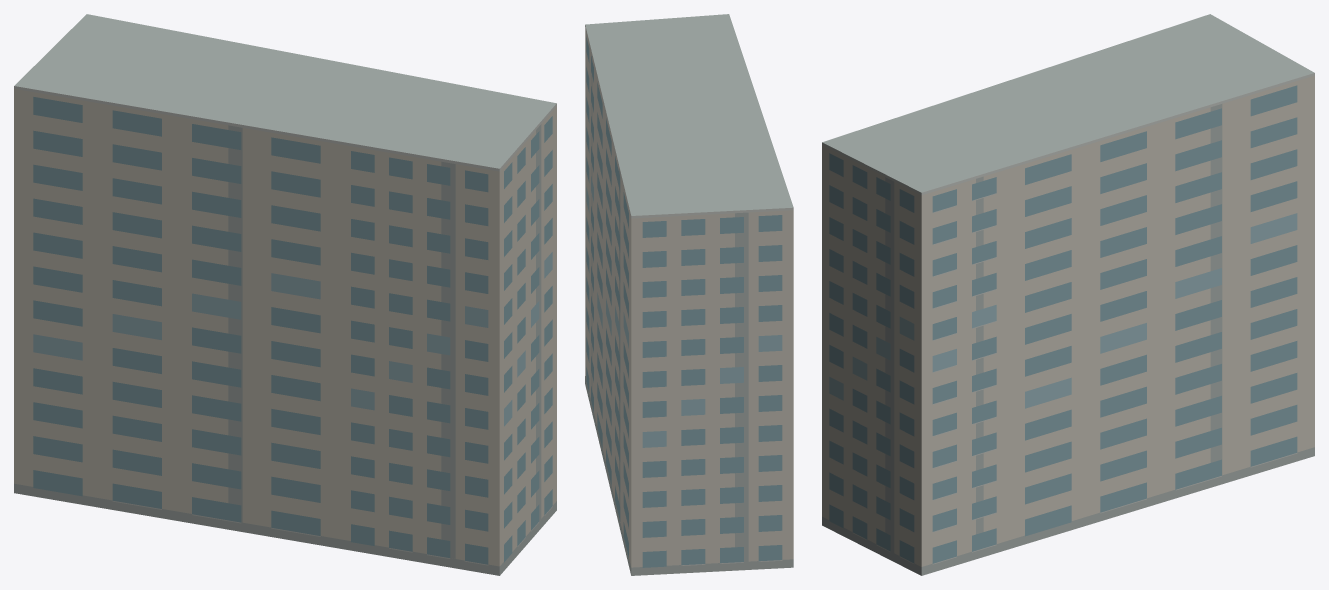
The model's file is residential-e1b3de57-2748-4418-bc0a-2f3971afb2ba.glb.
3 renders of one model, left to right at view 1: azimuth 30°, elevation 25°; view 2: azimuth 150°, elevation 25°; view 3: azimuth 270°, elevation 25°, orthographic. The views are drawn at different scales.
Visible parts, largest first — view 1: residential-e1b3de57-2748-4418-bc0a-2f3971afb2ba.tmp; view 2: residential-e1b3de57-2748-4418-bc0a-2f3971afb2ba.tmp; view 3: residential-e1b3de57-2748-4418-bc0a-2f3971afb2ba.tmp.
Boxes of the visible parts, <box> form: residential-e1b3de57-2748-4418-bc0a-2f3971afb2ba.tmp: <box>14,14,556,575</box>; residential-e1b3de57-2748-4418-bc0a-2f3971afb2ba.tmp: <box>585,14,793,575</box>; residential-e1b3de57-2748-4418-bc0a-2f3971afb2ba.tmp: <box>822,14,1314,575</box>.
Size of the model in its own units: 35.03 by 35 by 40.81.
